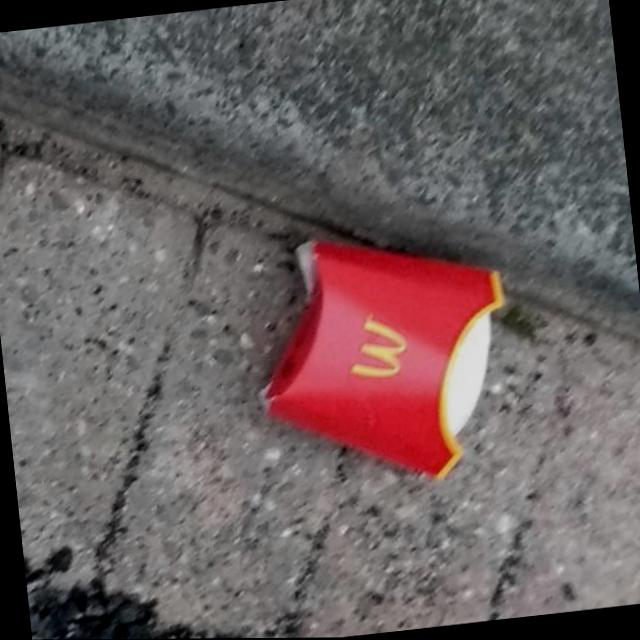Paper: (240, 213, 528, 501)
